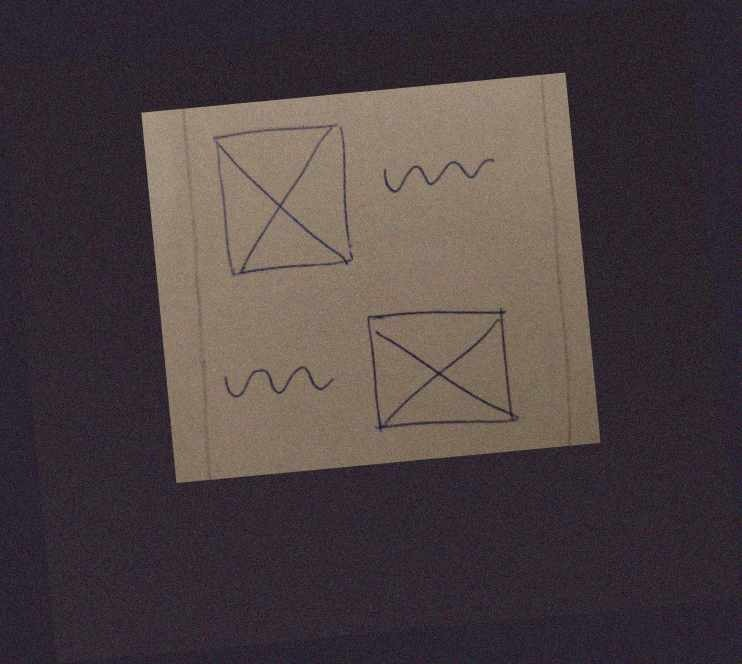image: (208, 118, 359, 279), (361, 296, 524, 444)
text: (375, 142, 498, 203), (215, 352, 338, 413)
